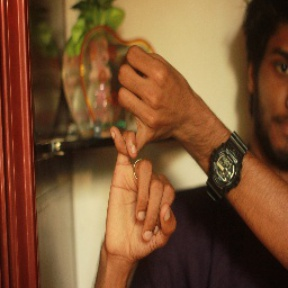S: (97, 44, 189, 252)
